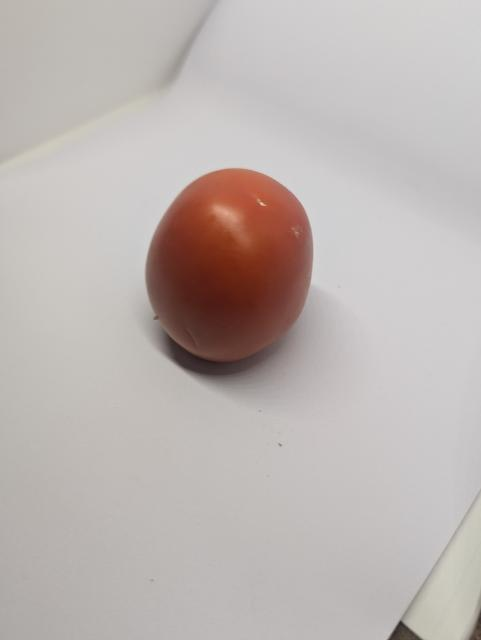red: (134, 160, 335, 377)
